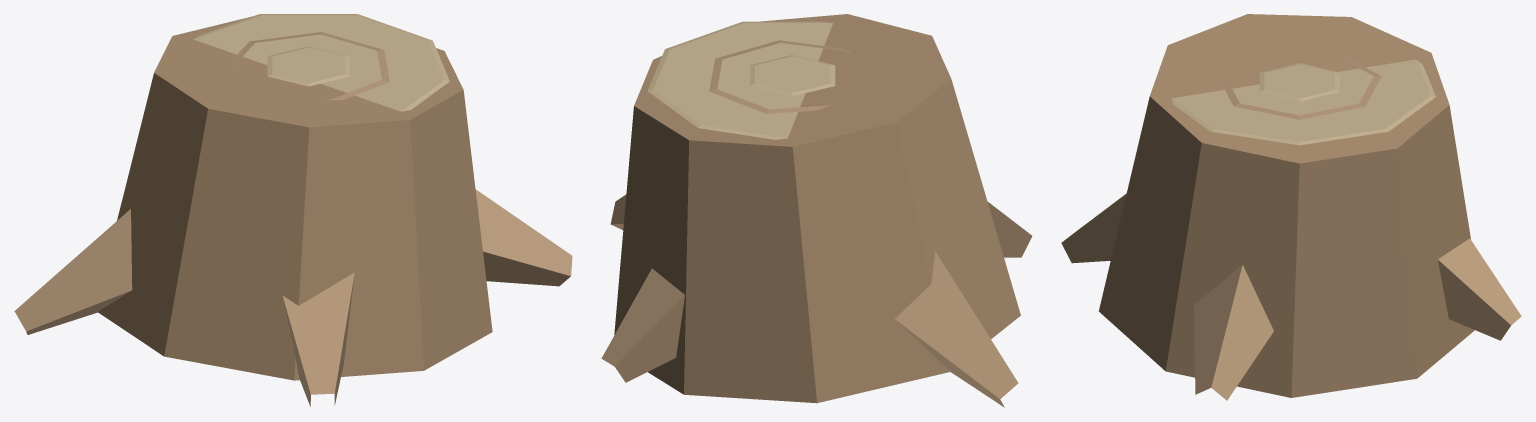
The picture shows the model from 3 angles, left to right: view 1: azimuth 30°, elevation 25°; view 2: azimuth 150°, elevation 25°; view 3: azimuth 270°, elevation 25°; orthographic projection. The views are drawn at different scales.
Visible parts, largest first — view 1: Body; view 2: Body; view 3: Body.
Boxes of the visible parts, x1,y1,x2,y2 form: Body: (14, 14, 572, 406); Body: (601, 14, 1032, 407); Body: (1061, 14, 1521, 400).
Bounding box in the file's own units: 1.95 × 1.02 × 1.69.
